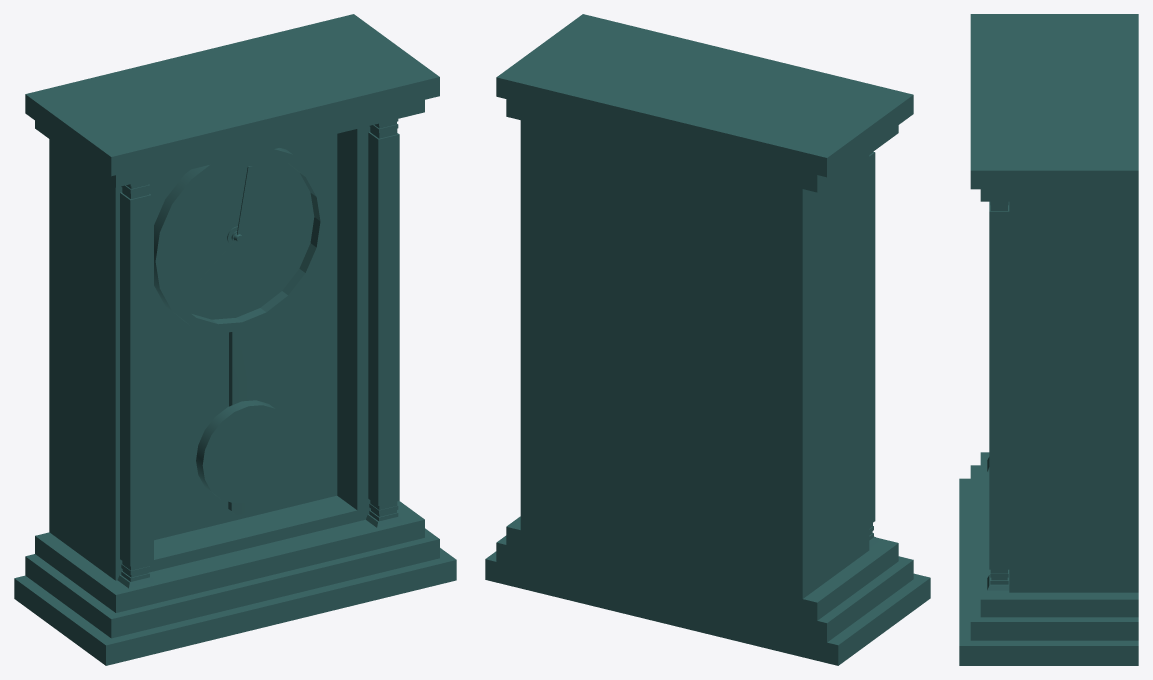
The model's file is Clock low.fbx.
The picture shows the model from 3 angles, left to right: view 1: azimuth 30°, elevation 25°; view 2: azimuth 150°, elevation 25°; view 3: azimuth 270°, elevation 25°; orthographic projection. The views are drawn at different scales.
Visible parts, largest first — view 1: clock_07_low, clock_01_low, clock_21_low, clock_04_low, clock_06_low, clock_03_low, clock_20_low, clock_05_low, clock_22_low, clock_02_low, clock_25_low; view 2: clock_07_low, clock_01_low, clock_04_low, clock_05_low, clock_06_low, clock_02_low, clock_03_low; view 3: clock_07_low, clock_01_low, clock_20_low, clock_04_low, clock_05_low, clock_06_low, clock_02_low.
Part boxes in pixels (x1,y1,x2,y2): clock_07_low: [49, 126, 370, 580]; clock_01_low: [25, 14, 439, 176]; clock_21_low: [154, 148, 328, 333]; clock_04_low: [14, 548, 456, 665]; clock_06_low: [35, 501, 424, 612]; clock_03_low: [120, 192, 151, 566]; clock_20_low: [368, 132, 399, 505]; clock_05_low: [25, 528, 439, 638]; clock_22_low: [196, 400, 294, 503]; clock_02_low: [35, 100, 424, 187]; clock_25_low: [228, 328, 250, 514]; clock_07_low: [520, 120, 869, 598]; clock_01_low: [496, 14, 913, 177]; clock_04_low: [485, 551, 930, 665]; clock_05_low: [496, 535, 913, 642]; clock_06_low: [506, 516, 898, 620]; clock_02_low: [506, 99, 898, 192]; clock_03_low: [869, 151, 875, 524]; clock_07_low: [1009, 201, 1138, 592]; clock_01_low: [970, 14, 1138, 189]; clock_20_low: [989, 201, 1009, 569]; clock_04_low: [959, 478, 1138, 665]; clock_05_low: [970, 465, 1138, 640]; clock_06_low: [980, 452, 1138, 617]; clock_02_low: [980, 189, 1138, 201].
Bounding box in the file's own units: 29.21 × 39.95 × 13.24.
